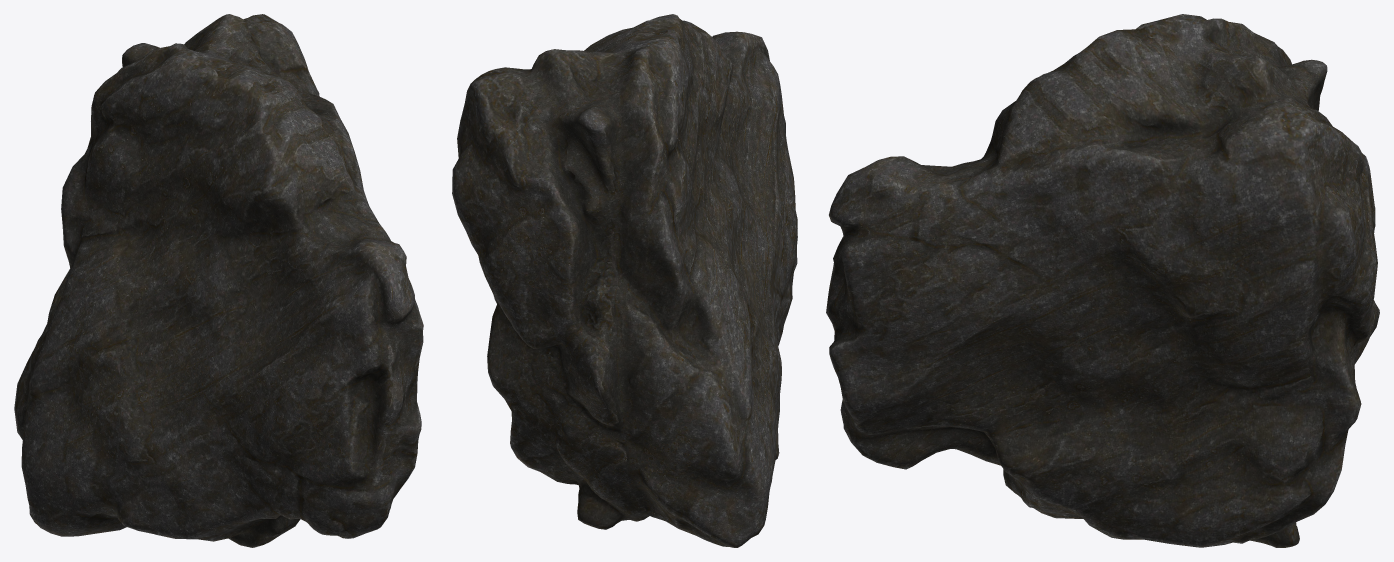
The model's file is set2_rock_17.fbx.
The picture shows the model from 3 angles, left to right: view 1: azimuth 30°, elevation 25°; view 2: azimuth 150°, elevation 25°; view 3: azimuth 270°, elevation 25°; orthographic projection. The views are drawn at different scales.
Parts seen in each view (by area): view 1: set2_rock_17; view 2: set2_rock_17; view 3: set2_rock_17.
Part boxes in pixels (bbox=[...]): set2_rock_17: bbox=[14, 14, 423, 547]; set2_rock_17: bbox=[452, 14, 797, 547]; set2_rock_17: bbox=[826, 14, 1379, 547].
Size of the model in its own units: 17.47 by 27.5 by 26.39.
Materials: 1 (1 with a texture image).
